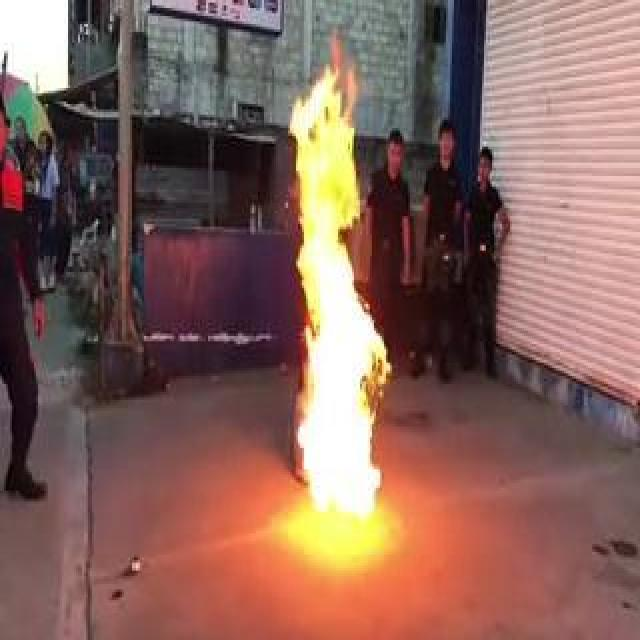Fire: (290, 71, 388, 521)
